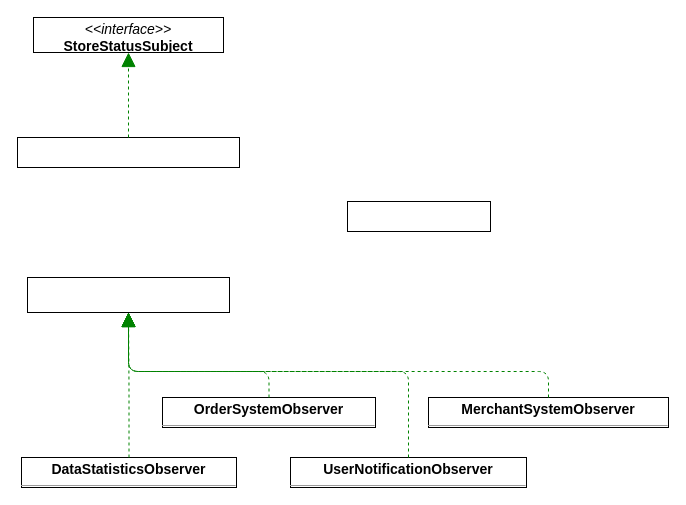
Some shapes in this 686 by 505 pixel diagram are drawn without their labels. Here are the shapes that lost their labels. From the top down, the centre of each, then its label:
At (128,152): "StoreStatusSubjectImpl".
At (418,216): "StoreService".
At (128,294): "<<interface>> StoreStatusObserver".
